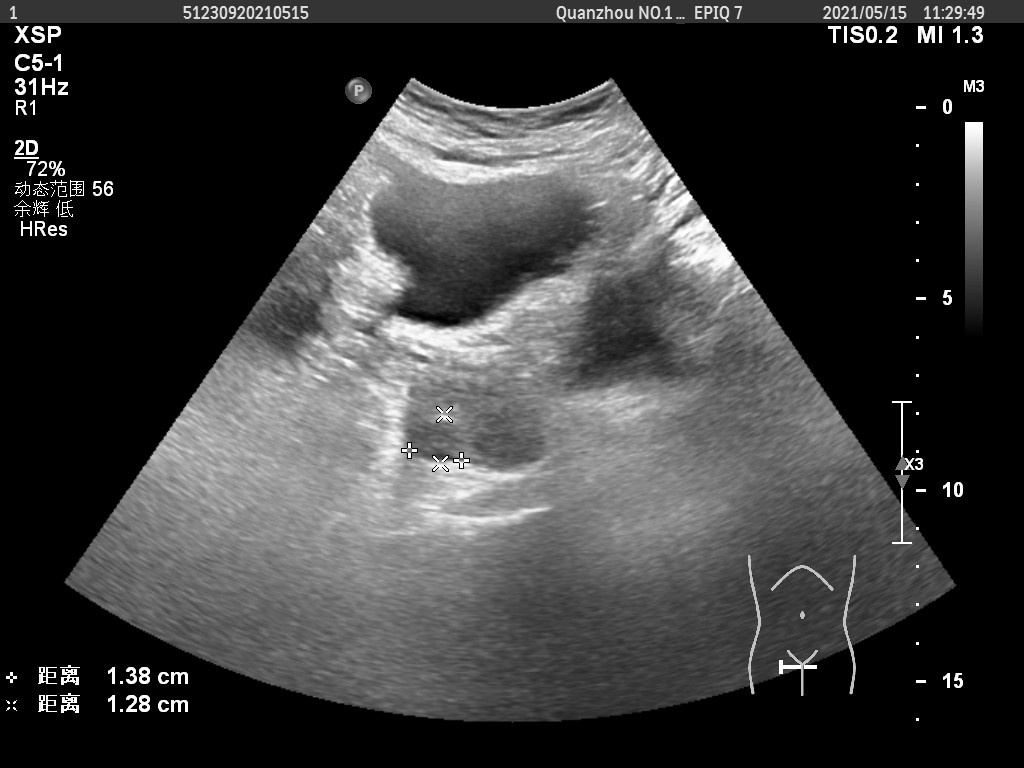肌瘤: (410, 422, 462, 461)
